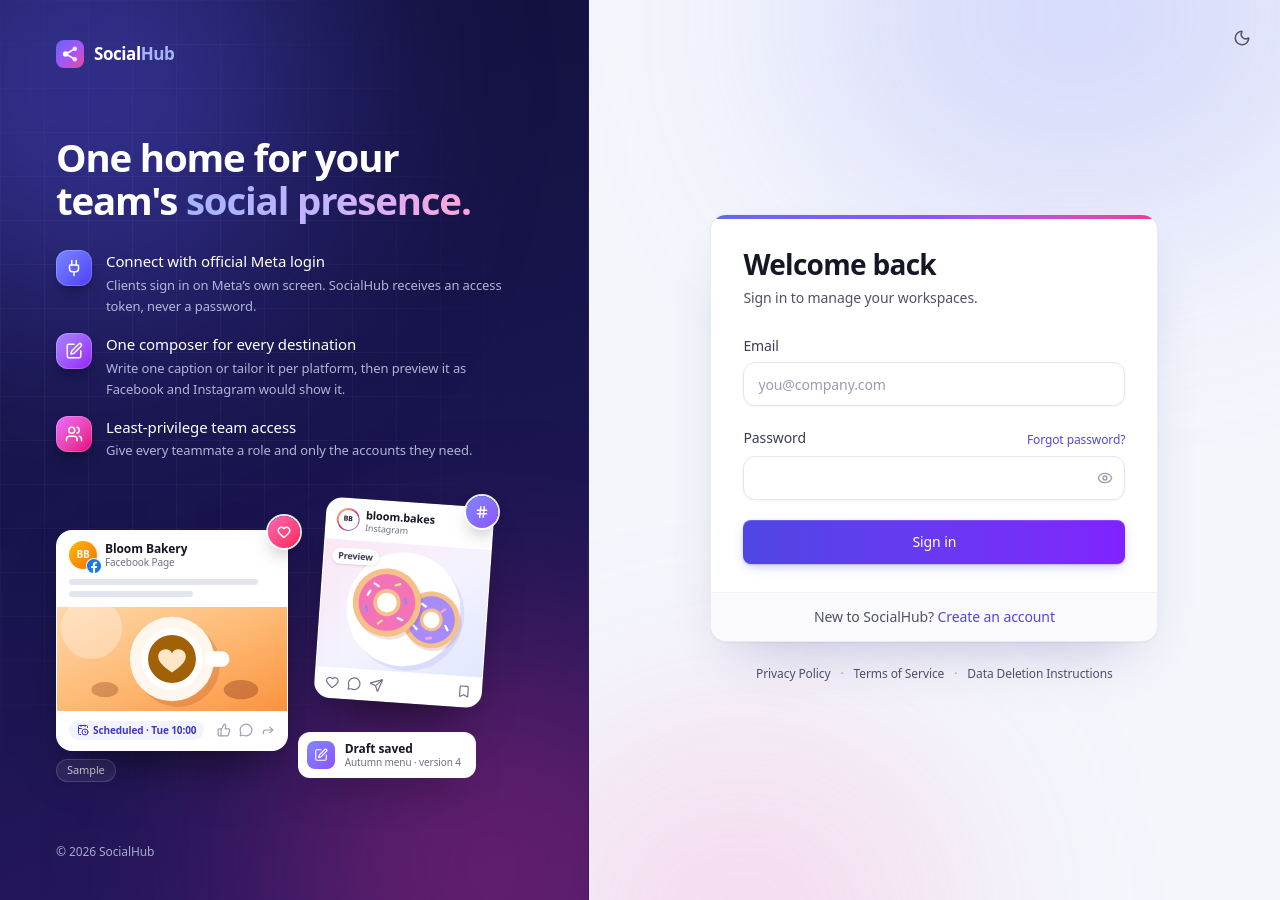
it: routing and authentication › shows the server message for wrong credentials
Type "ada@example.com" into the field labelled "Email". click: [934, 384]
box: [743,362,1125,406]
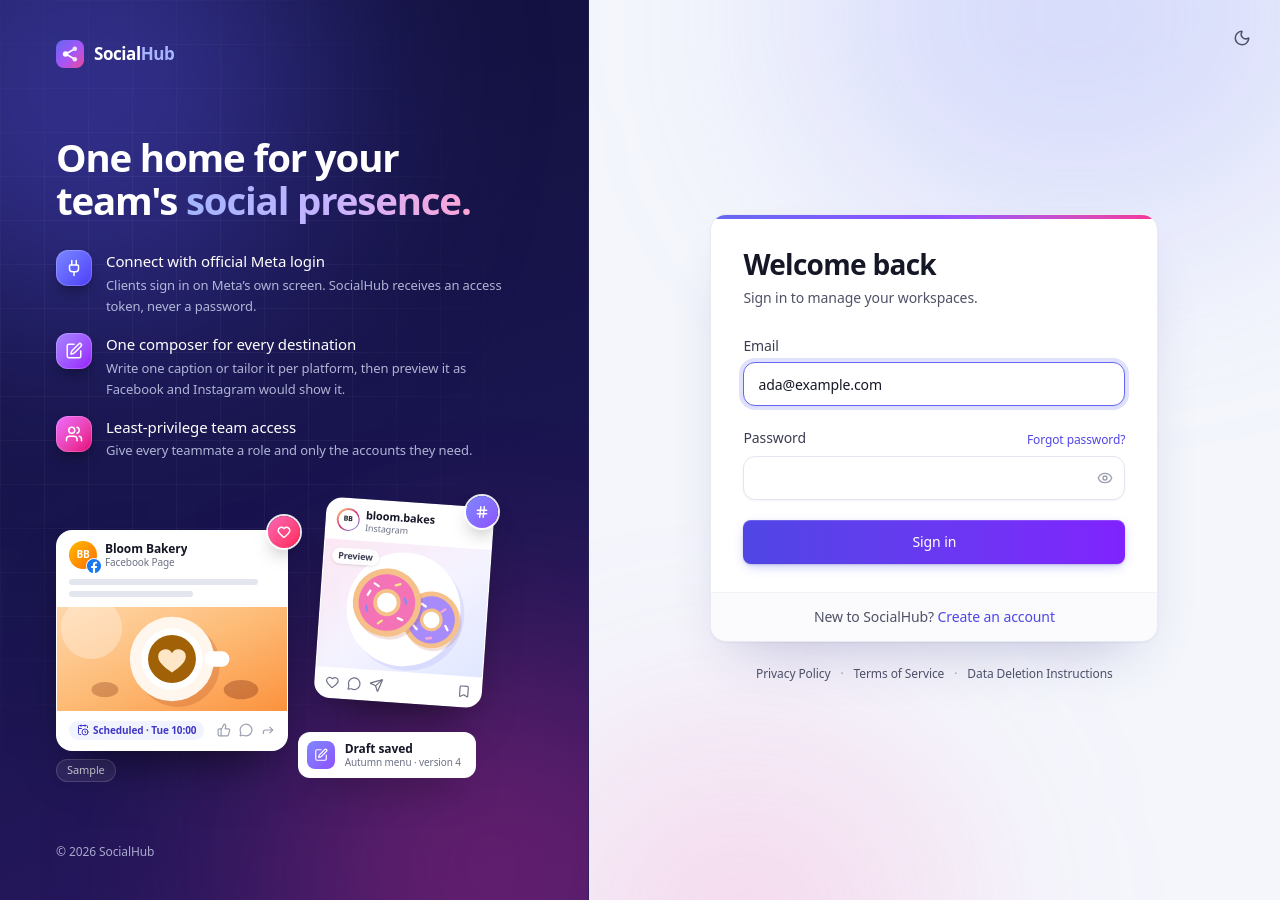
Type "wrong-pass1" into the password field labelled "Password". click: [934, 478]
box: [743,456,1125,500]
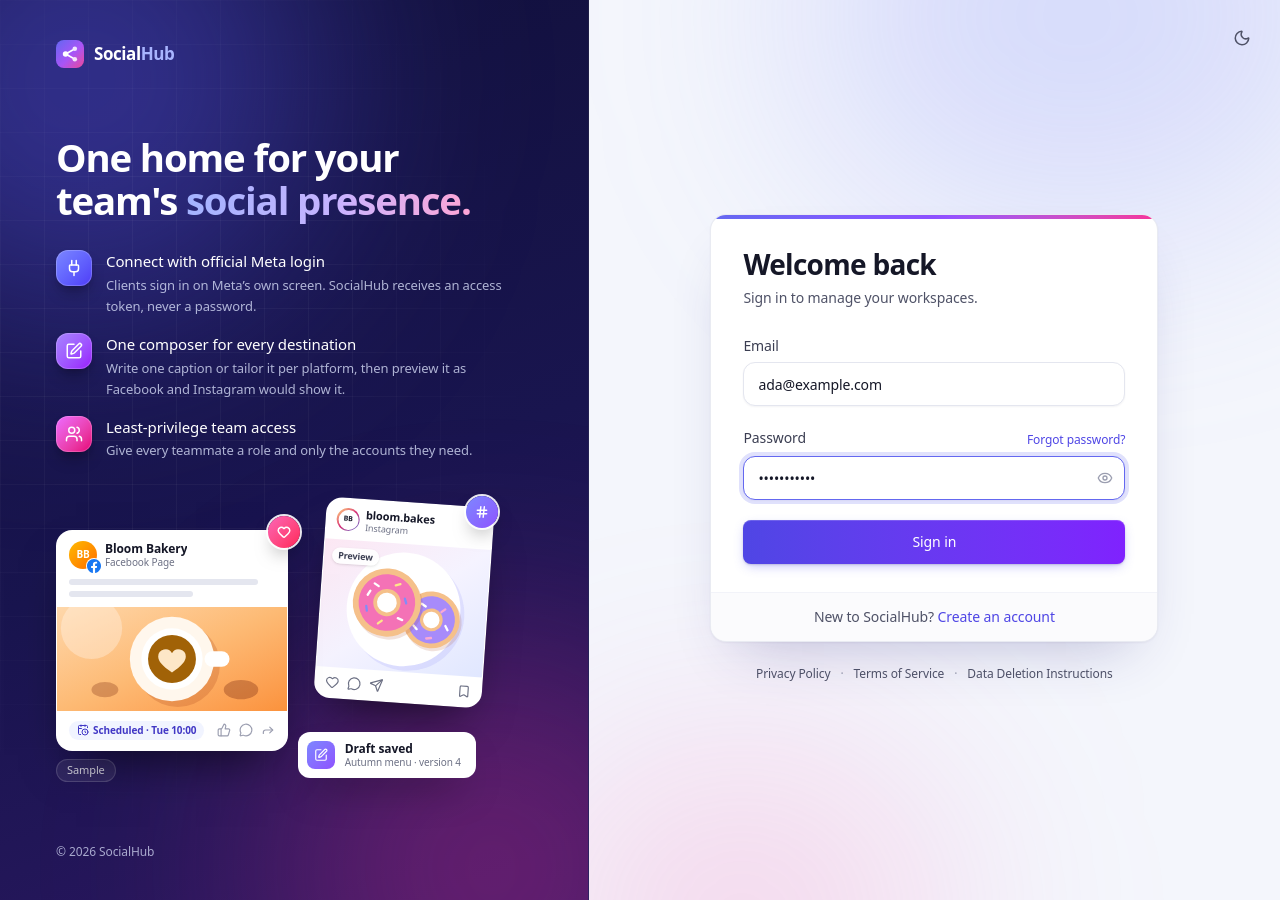
Click the button "Sign in". click: [934, 542]
box: [743,520,1125,564]
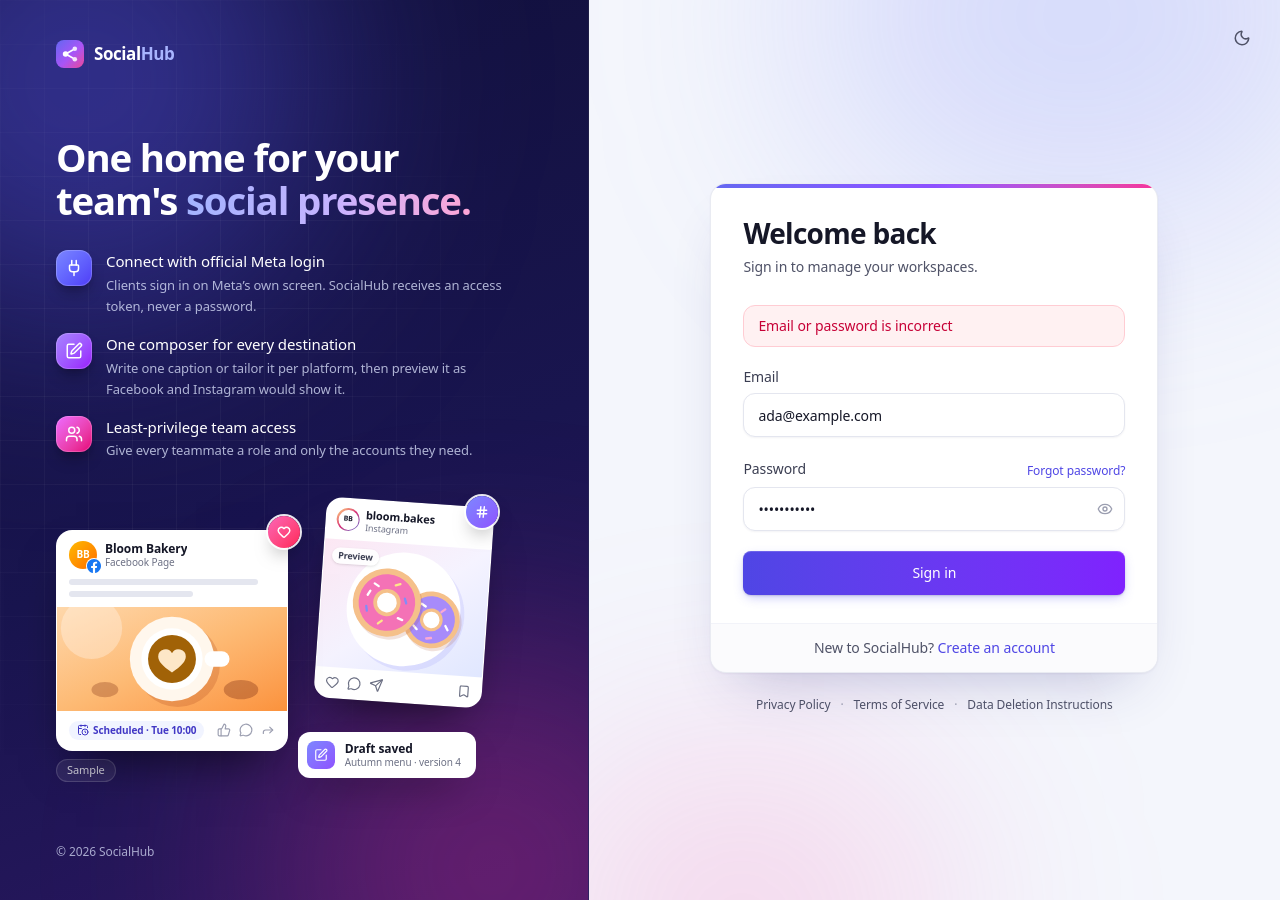
Result: the message reads "Email or password is incorrect" at [758,316,952,335]
